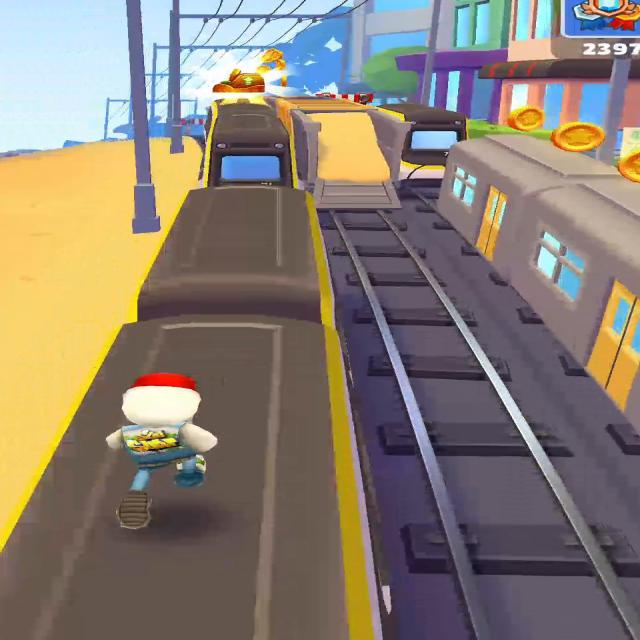climber: (311, 114, 397, 209)
train: (435, 135, 639, 429), (207, 98, 292, 186), (378, 103, 467, 185)
